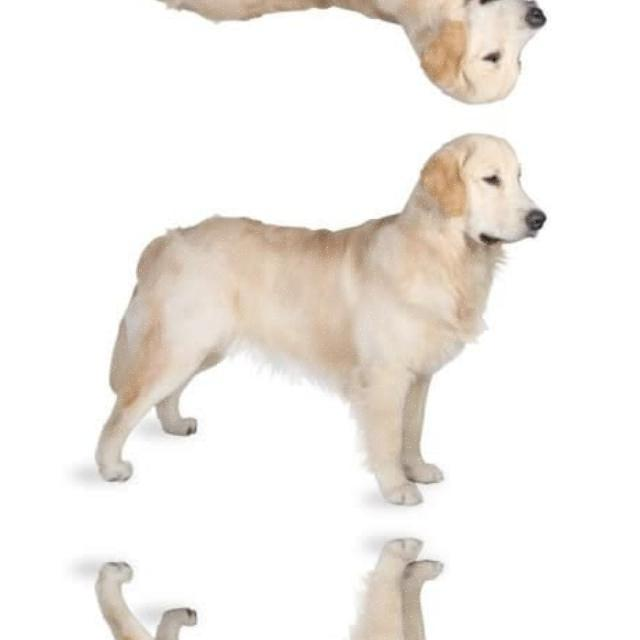dog: (16, 125, 552, 508), (17, 0, 552, 111), (17, 534, 552, 640)
